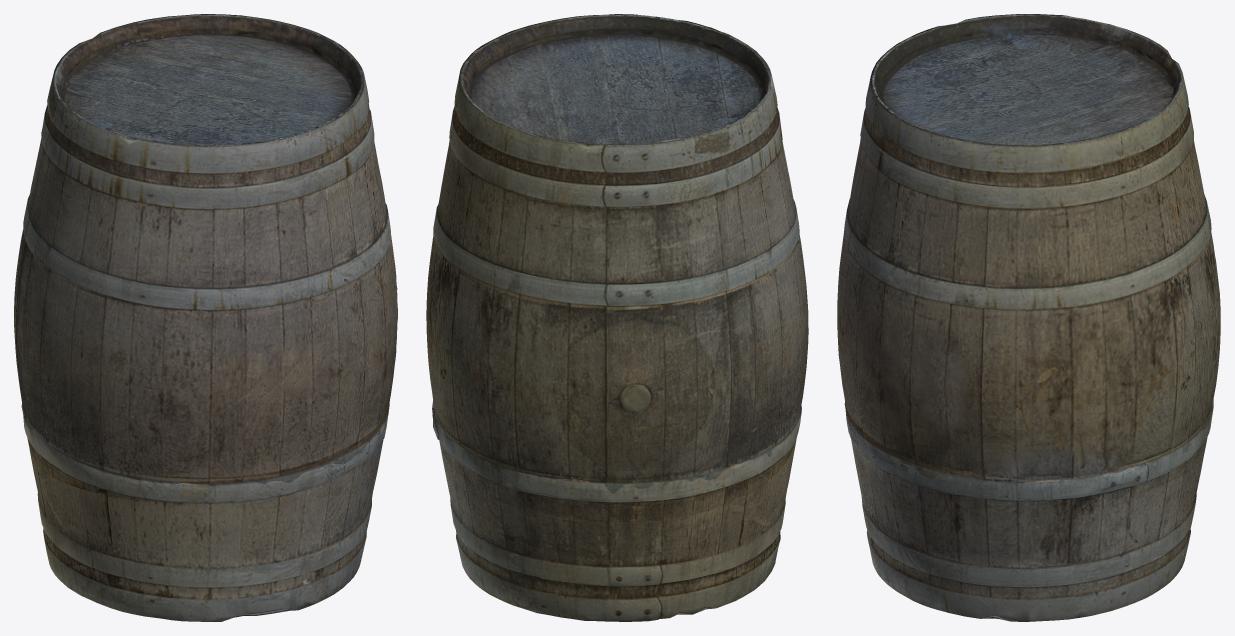
File: MOD_BarrelA.fbx
3 views of the same model, side by side, from view 1: azimuth 30°, elevation 25°; view 2: azimuth 150°, elevation 25°; view 3: azimuth 270°, elevation 25° (orthographic).
Parts seen in each view (by area): view 1: MOD_BarrelA; view 2: MOD_BarrelA; view 3: MOD_BarrelA.
Boxes of the visible parts, left/top/right/bottom form: MOD_BarrelA: left=14, top=14, right=397, bottom=621; MOD_BarrelA: left=426, top=14, right=808, bottom=621; MOD_BarrelA: left=837, top=14, right=1220, bottom=621.
Bounding box in the file's own units: 66.59 × 91.96 × 66.72.
